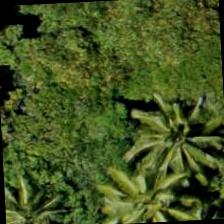Kelapa_Sawit: (125, 80, 220, 176), (101, 148, 196, 224), (3, 175, 73, 223)
